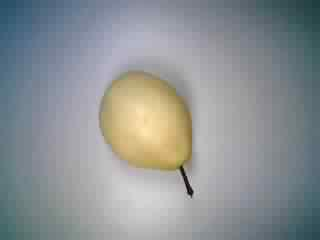pear: (86, 68, 214, 202)
